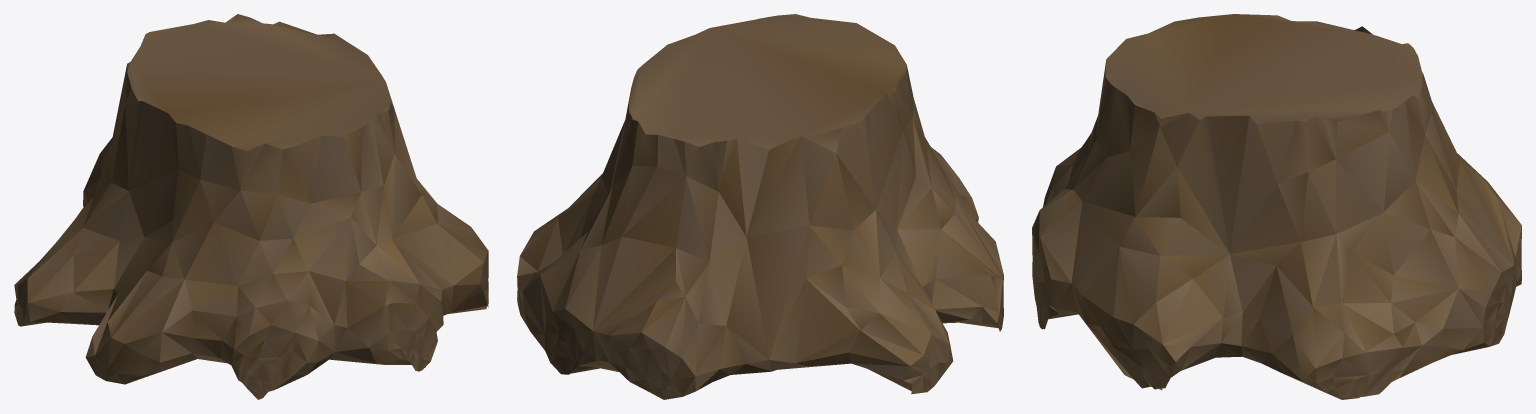
Rendered from willow_stump.glb.
3 views of the same model, side by side, from view 1: azimuth 30°, elevation 25°; view 2: azimuth 150°, elevation 25°; view 3: azimuth 270°, elevation 25° (orthographic). The views are drawn at different scales.
Visible parts, largest first — view 1: Stump; view 2: Stump; view 3: Stump.
Part boxes in pixels (x1=…): Stump: x1=14, y1=14, x2=488, y2=399; Stump: x1=517, y1=14, x2=1003, y2=399; Stump: x1=1032, y1=14, x2=1521, y2=399.
Size of the model in its own units: 1.19 by 0.6437 by 1.2.
